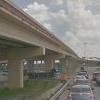Bridge: (12, 1, 86, 78)
